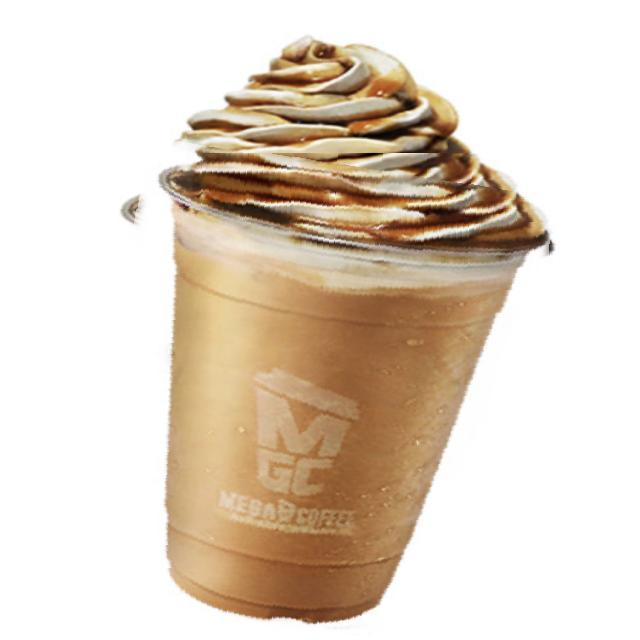recyclable: (90, 153, 554, 640)
